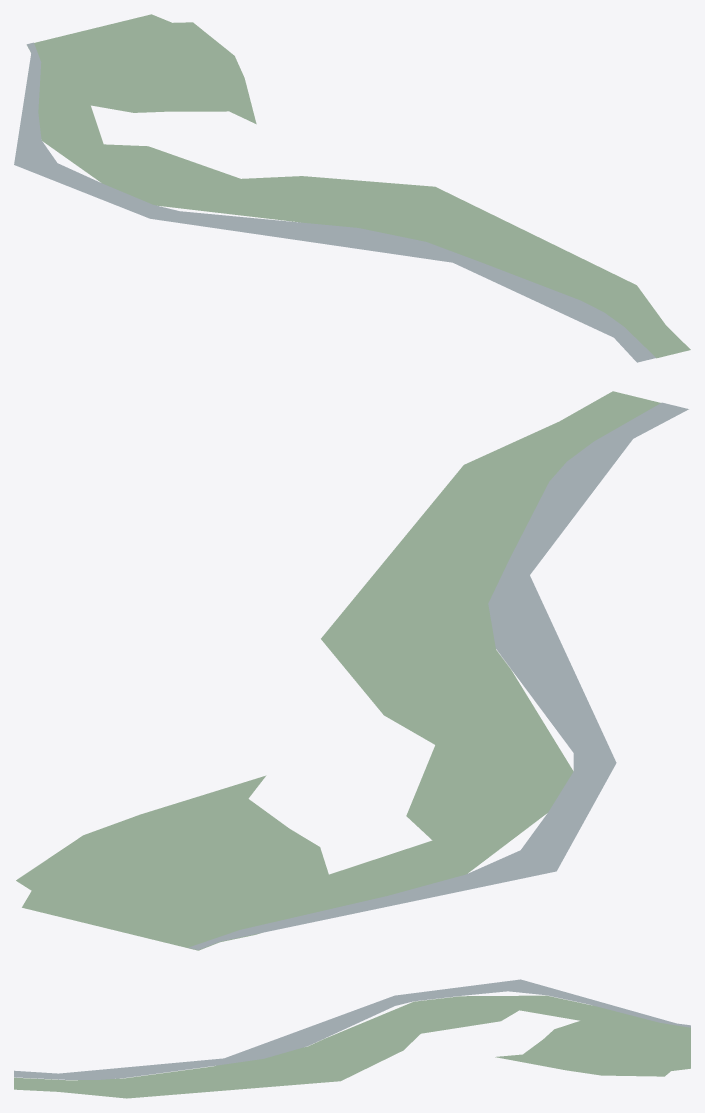
Rendered from 100_85_mid.glb.
3 views of the same model, one above another, from view 1: azimuth 30°, elevation 25°; view 2: azimuth 150°, elevation 25°; view 3: azimuth 270°, elevation 25° (orthographic). The views are drawn at different scales.
Size of the model in its own units: 208 by 0.2563 by 500.
